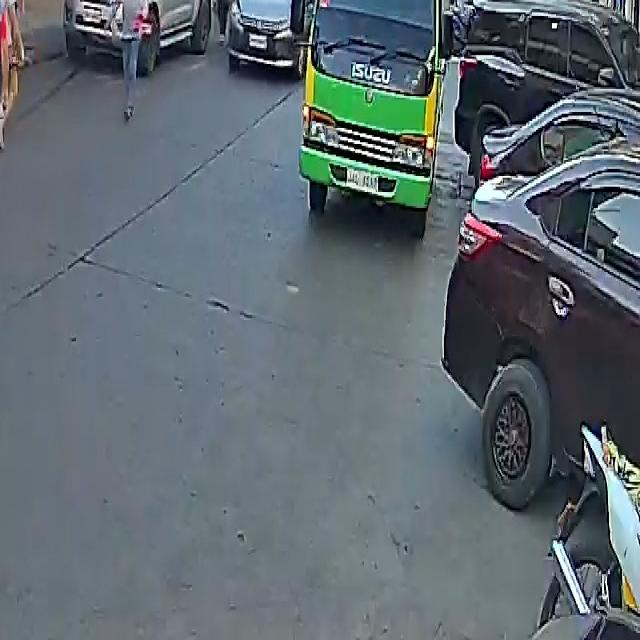car: (443, 74, 640, 528), (454, 0, 639, 181), (63, 0, 229, 66), (225, 0, 314, 73)
